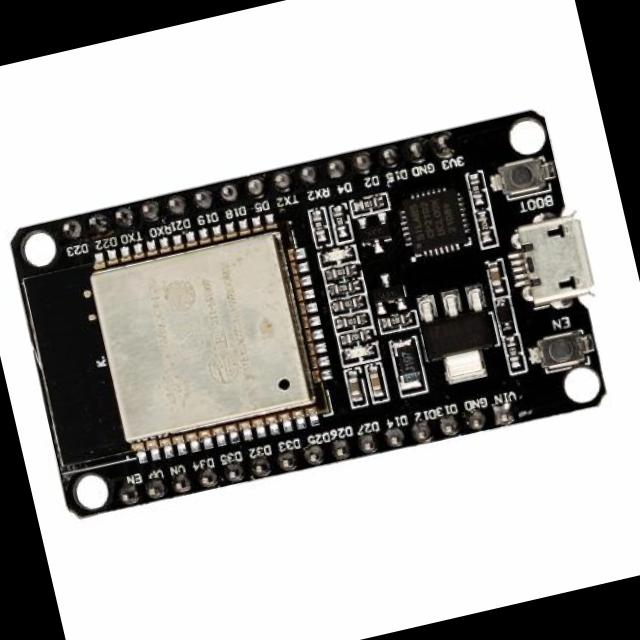IC: (76, 212, 344, 465), (414, 286, 502, 384), (394, 184, 473, 261)
LED: (321, 246, 354, 266), (341, 343, 372, 363)
capacitor: (346, 372, 366, 403), (366, 368, 386, 398), (486, 258, 502, 290)
connector: (508, 211, 605, 312)
diode: (394, 340, 422, 386), (495, 300, 516, 328)
resistor: (504, 336, 524, 366), (332, 210, 351, 240), (341, 326, 368, 347), (476, 211, 494, 241), (329, 262, 353, 281), (358, 195, 384, 212), (335, 293, 359, 311), (386, 310, 410, 328), (338, 310, 363, 327), (332, 279, 355, 297), (470, 175, 484, 202), (312, 214, 326, 238)
transistor: (366, 269, 410, 315), (356, 210, 397, 254)
